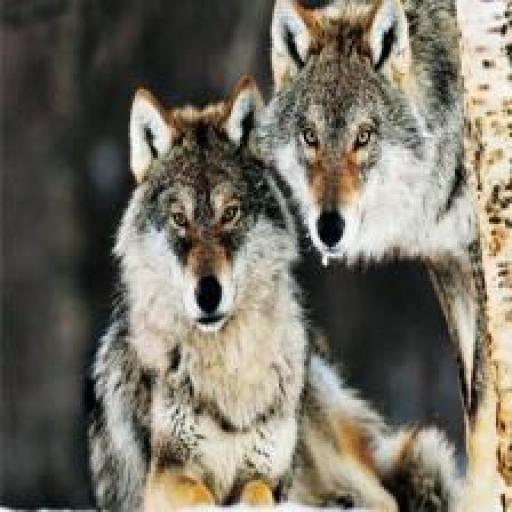wolf: (62, 64, 418, 512), (251, 0, 486, 274)
